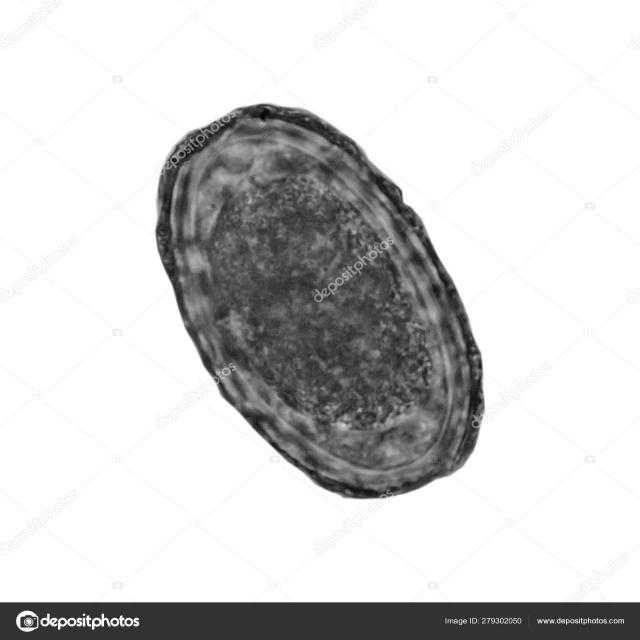Ascaris Lumbricoides: (145, 93, 485, 506)
